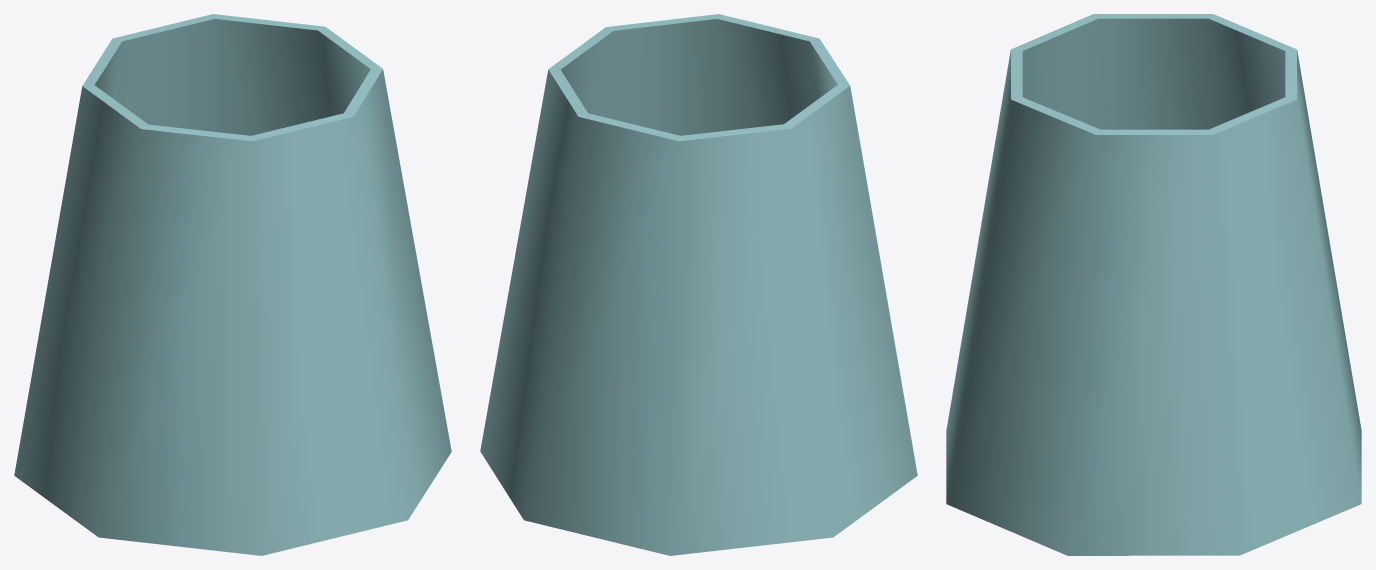
Rendered from Itr_Lamp_Cap1_06.FBX.
3 renders of one model, left to right at view 1: azimuth 30°, elevation 25°; view 2: azimuth 150°, elevation 25°; view 3: azimuth 270°, elevation 25°, orthographic.
Parts seen in each view (by area): view 1: Itr_Lamp_Cap1_06; view 2: Itr_Lamp_Cap1_06; view 3: Itr_Lamp_Cap1_06.
Part boxes in pixels (left/top/right/bottom): Itr_Lamp_Cap1_06: left=14, top=14, right=451, bottom=555; Itr_Lamp_Cap1_06: left=480, top=14, right=917, bottom=555; Itr_Lamp_Cap1_06: left=946, top=14, right=1361, bottom=555.
Bounding box in the file's own units: 8.48 × 8.87 × 8.48.
